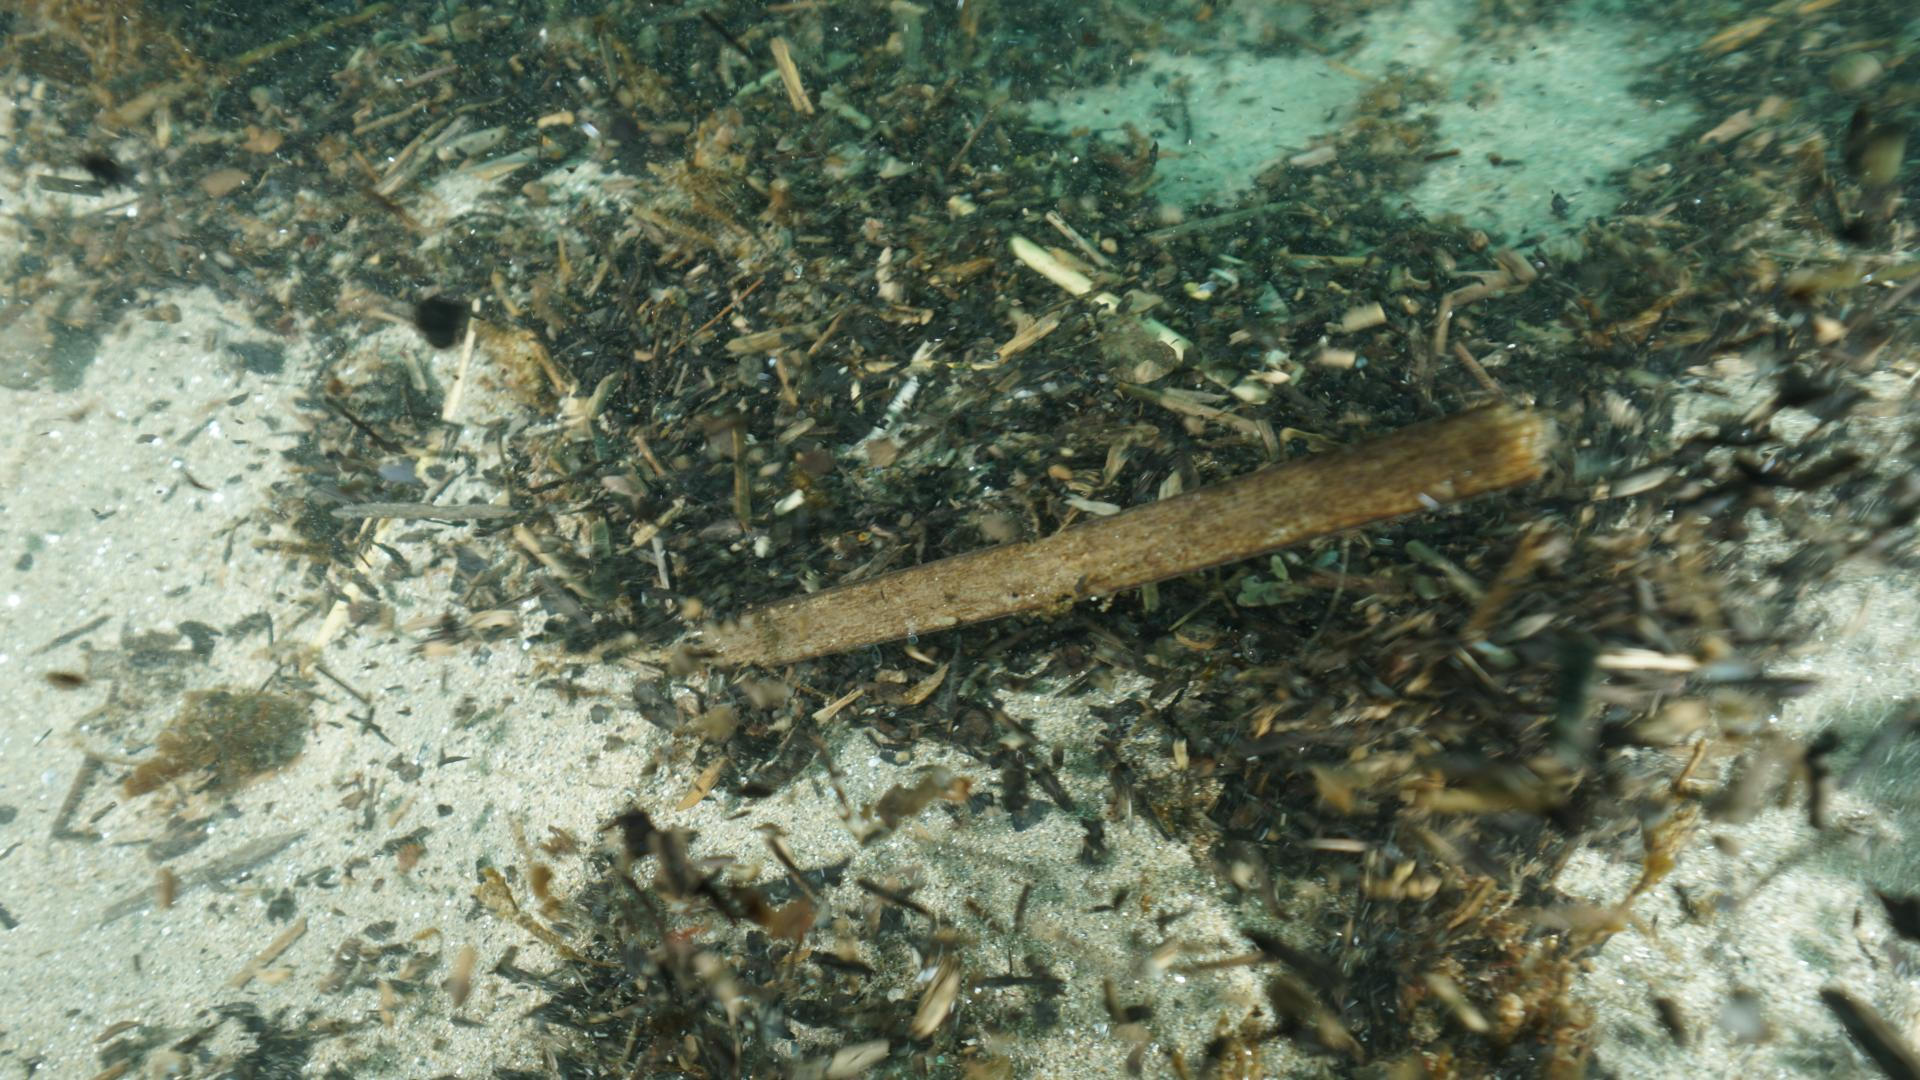wood: (680, 397, 1549, 673)
